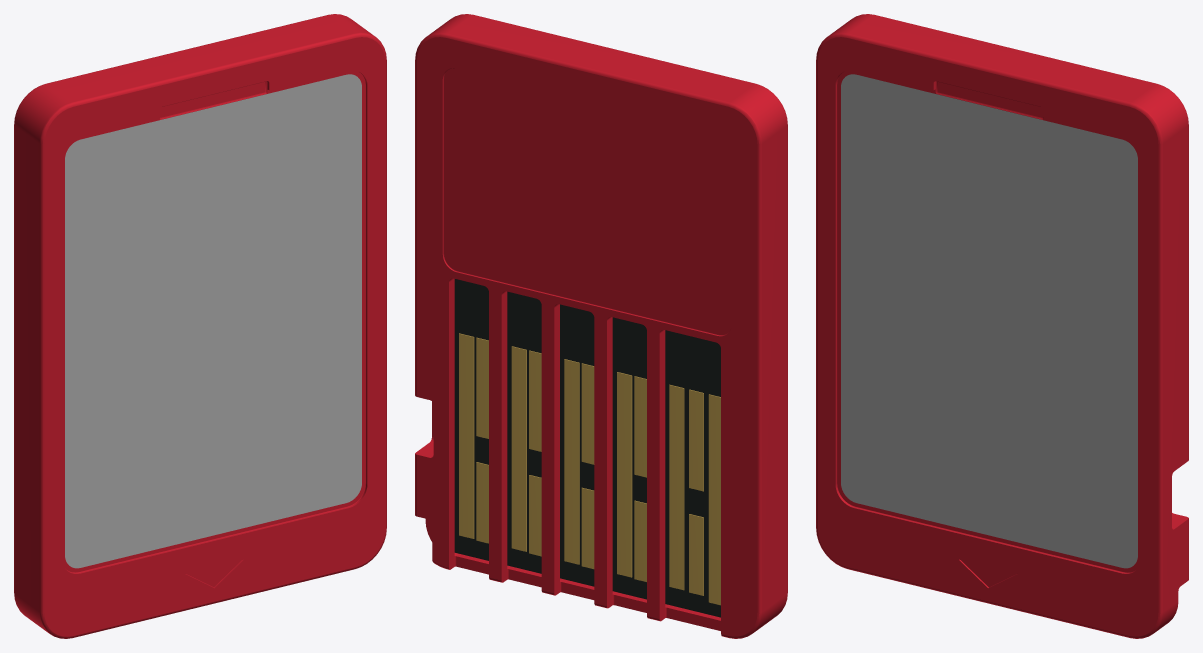
File: switch2-game-card.glb
The picture shows the model from 3 angles, left to right: view 1: azimuth 30°, elevation 25°; view 2: azimuth 150°, elevation 25°; view 3: azimuth 330°, elevation 25°; orthographic projection.
Parts seen in each view (by area): view 1: artwork_front, Switch 2 shell; view 2: Switch 2 shell, Switch 2 monolithic memory package, Switch 2 contact 3.1, Switch 2 contact 2.1, Switch 2 contact 1.1, Switch 2 contact 5.1, Switch 2 contact 4.1, Switch 2 contact 5.4, Switch 2 contact 5.3, Switch 2 contact 3.3, Switch 2 contact 4.3, Switch 2 contact 1.3 (+6 smaller); view 3: artwork_front, Switch 2 shell.
Boxes of the visible parts, x1=… form: artwork_front: x1=65, y1=74, x2=361, y2=568; Switch 2 shell: x1=14, y1=14, x2=386, y2=638; Switch 2 shell: x1=415, y1=14, x2=787, y2=638; Switch 2 monolithic memory package: x1=454, y1=279, x2=720, y2=617; Switch 2 contact 3.1: x1=564, y1=359, x2=579, y2=564; Switch 2 contact 2.1: x1=511, y1=346, x2=526, y2=551; Switch 2 contact 1.1: x1=459, y1=333, x2=474, y2=538; Switch 2 contact 5.1: x1=669, y1=384, x2=684, y2=590; Switch 2 contact 4.1: x1=617, y1=372, x2=632, y2=577; Switch 2 contact 5.4: x1=708, y1=394, x2=720, y2=605; Switch 2 contact 5.3: x1=689, y1=389, x2=703, y2=491; Switch 2 contact 3.3: x1=581, y1=363, x2=594, y2=464; Switch 2 contact 4.3: x1=634, y1=376, x2=646, y2=477; Switch 2 contact 1.3: x1=476, y1=337, x2=488, y2=438; artwork_front: x1=841, y1=74, x2=1137, y2=568; Switch 2 shell: x1=816, y1=14, x2=1188, y2=638.
Size of the model in its own units: 21 by 31 by 3.
Materials: 4 (1 with a texture image).
